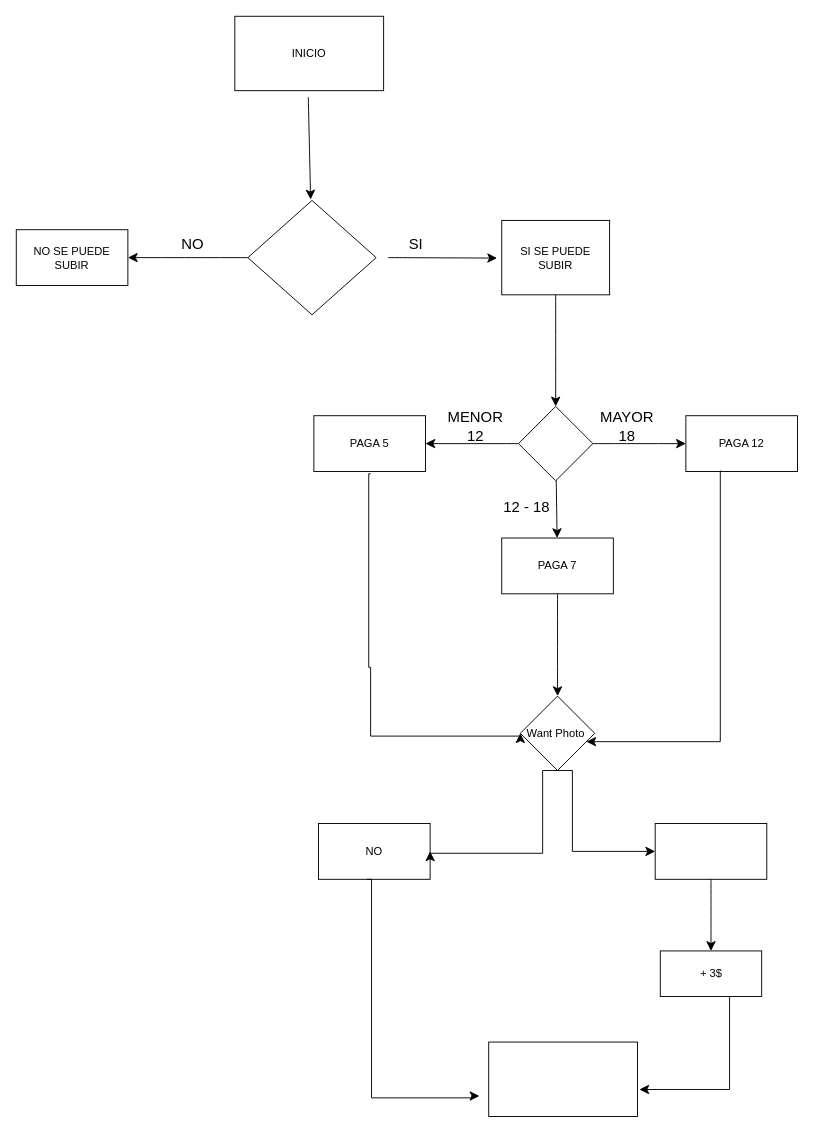
Some shapes in this 814 by 1133 pixel diagram are drawn without their labels. The shapes that lost their labels are listed below. From the top down, each one's centre as x and y in pixels, then its label:
At [311,257]: "ALTURA > 120 CM".
At [555,443]: "EDAD".
At [710,851]: "YES".
At [563,1078]: "PAY BILL".
